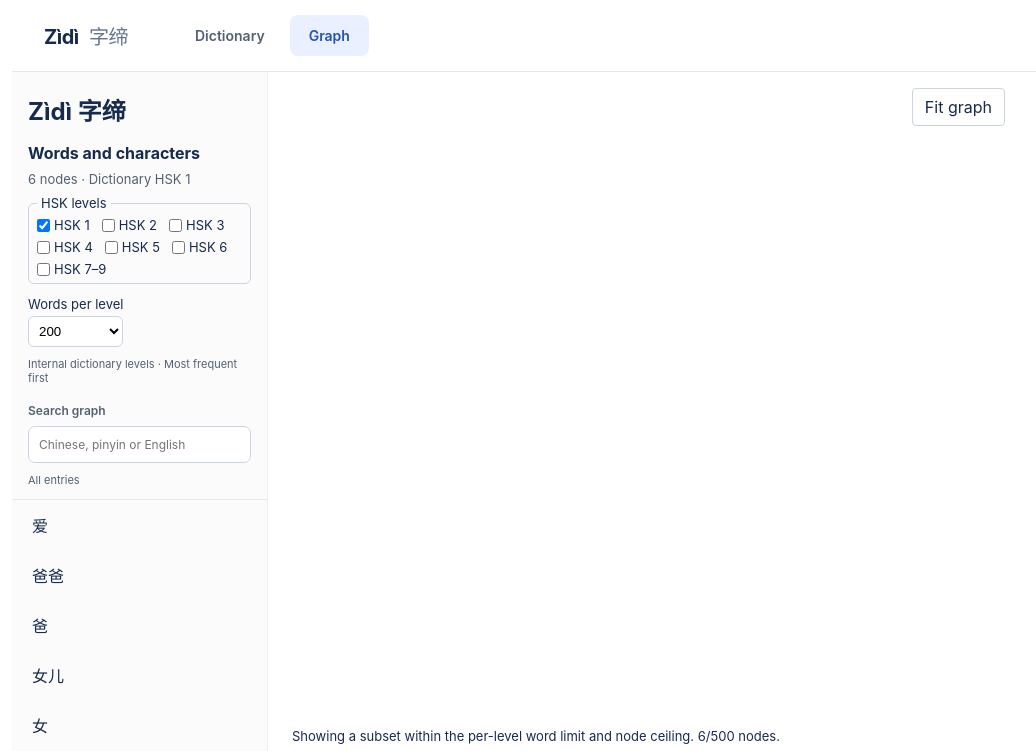
Test: focuses a selected word and resets to HSK 1 from the Graph tab
The image size is (1036, 751).
Click the button "爸爸" at {"x": 140, "y": 575}, box [12,550,267,600]
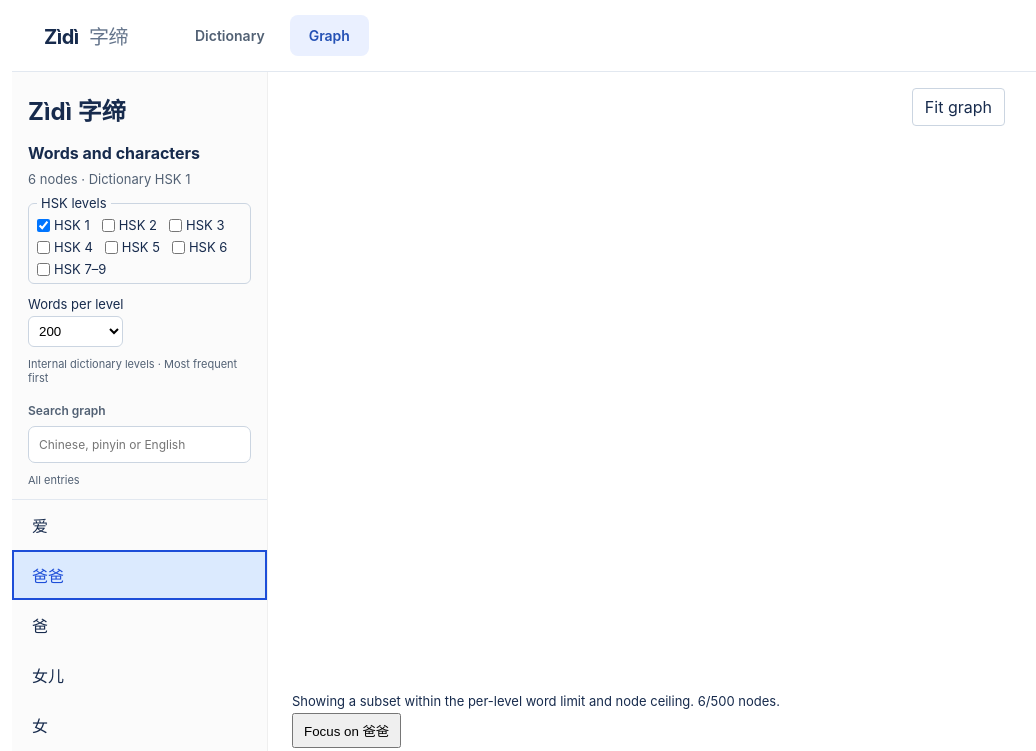
Click the button "Focus on 爸爸" at {"x": 347, "y": 730}, box [292,713,401,748]
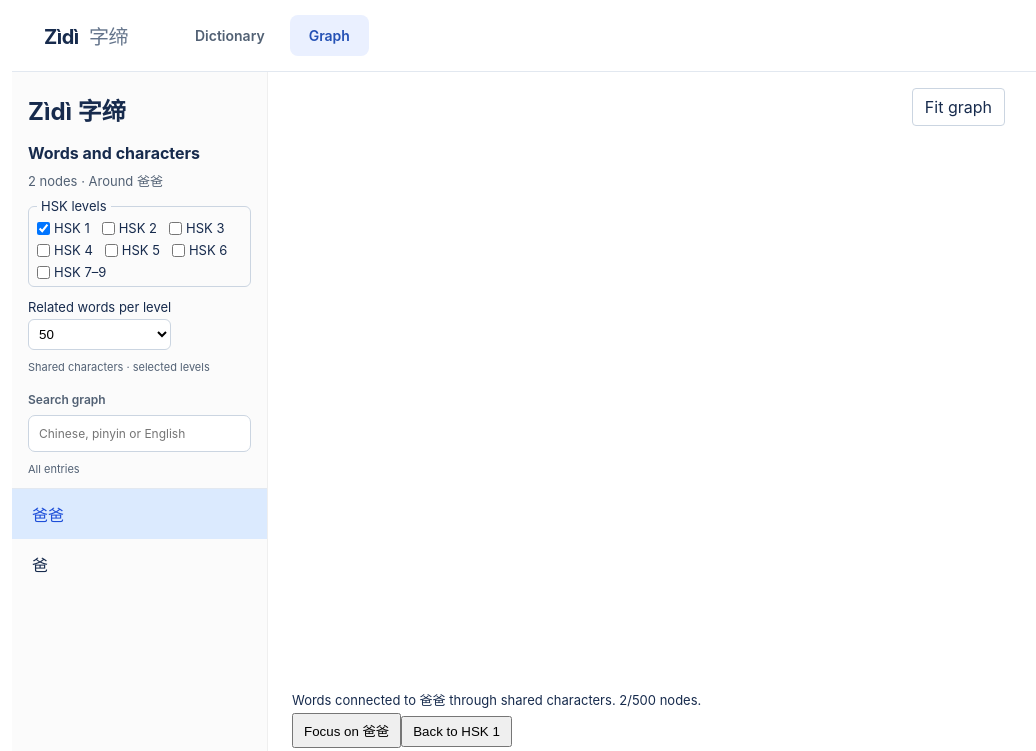
Expected: the checkbox labelled "HSK 1" is checked, [37,222,50,234]
Expected: the button "爱" is gone
Expected: the text "Shared characters · selected levels" is shown, [28,360,210,374]
Click the tab "Graph" at {"x": 329, "y": 36}, box [290,15,369,56]
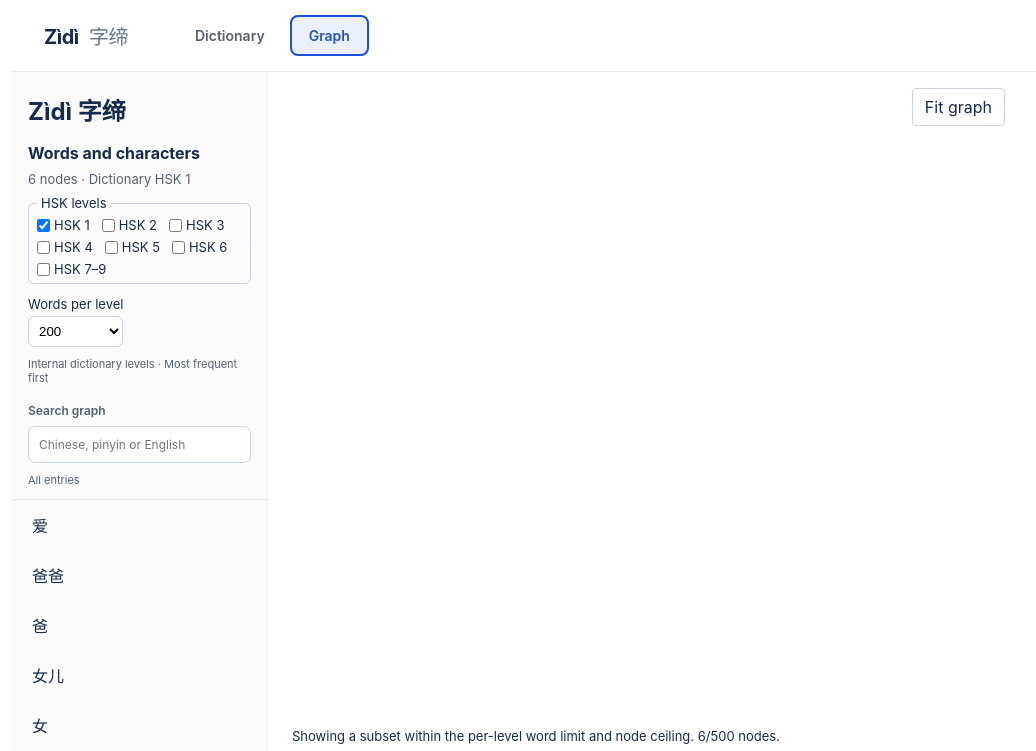
Expected: the checkbox labelled "HSK 1" is checked, [37,218,50,232]
Expected: the button "爱" is shown, [12,500,267,550]
Expected: the dropdown labelled "Words per level" shows "200", [28,316,124,347]
